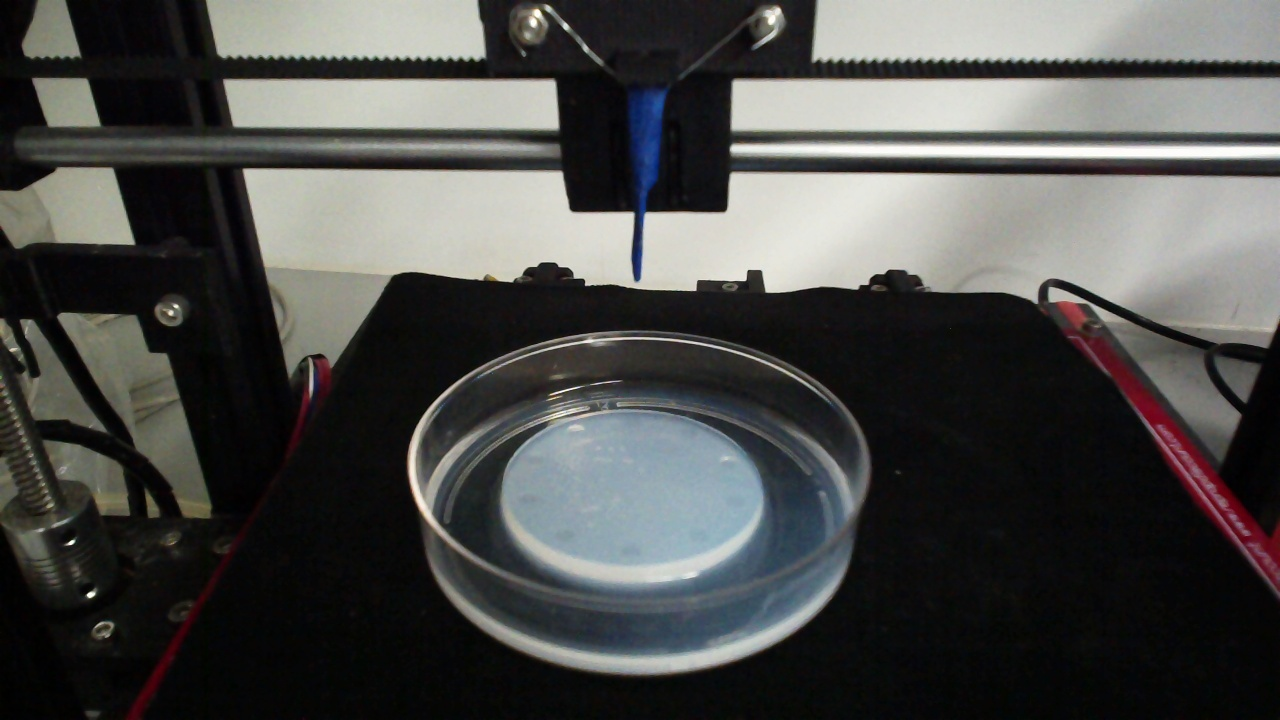groove: (724, 491, 746, 511), (551, 527, 575, 545), (686, 527, 711, 543), (618, 542, 640, 560), (524, 450, 545, 468), (716, 454, 739, 470), (621, 416, 645, 431), (517, 489, 539, 505), (564, 423, 585, 438), (677, 425, 697, 440)
needle: (627, 89, 666, 279)
